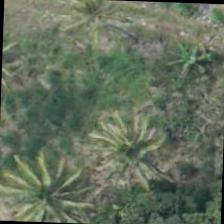Kelapa_Sawit: (85, 100, 178, 193), (4, 144, 97, 224)
